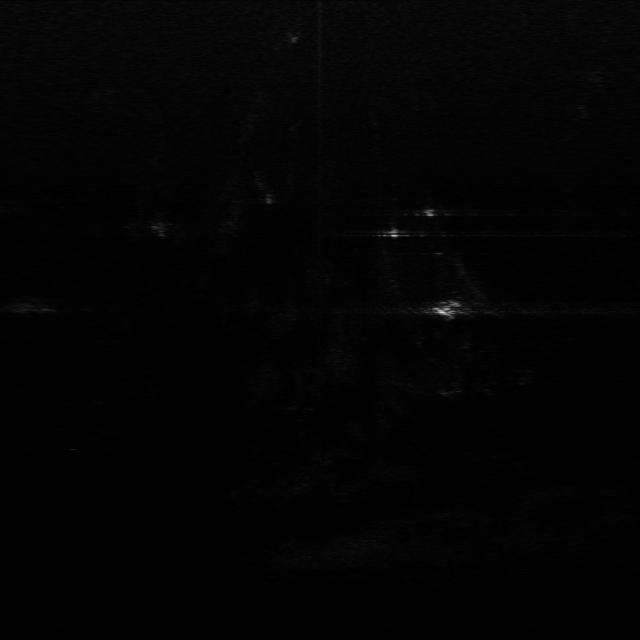rov: (431, 297, 468, 322)
